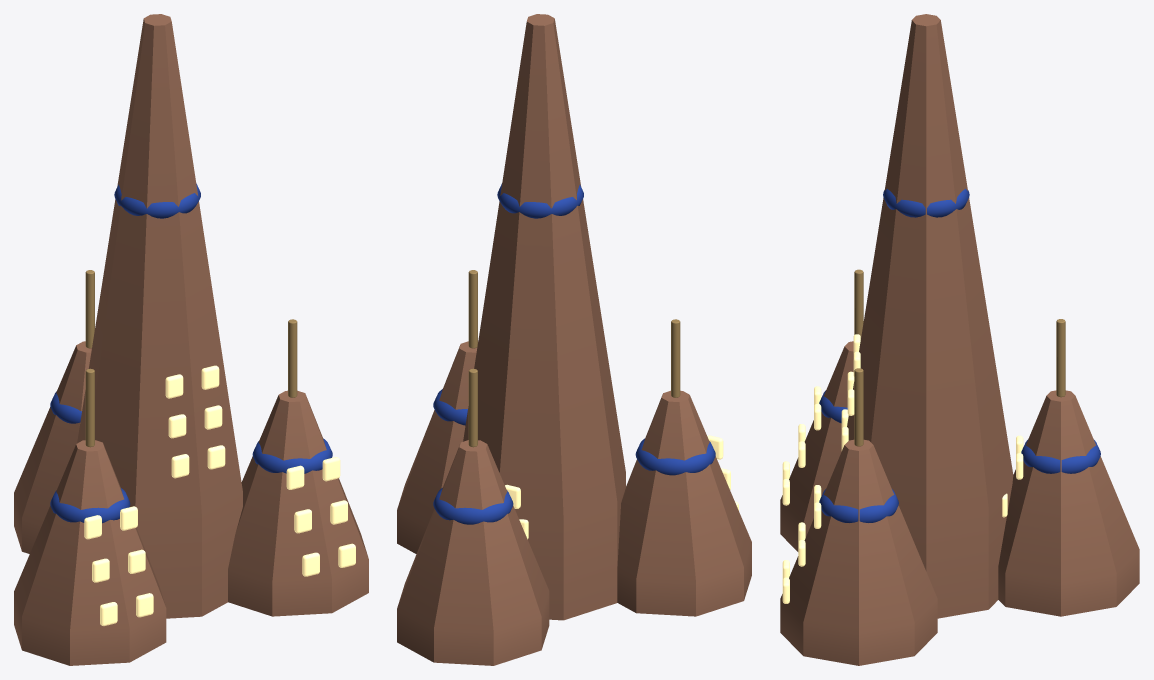
3 views of the same model, side by side, from view 1: azimuth 30°, elevation 25°; view 2: azimuth 150°, elevation 25°; view 3: azimuth 270°, elevation 25° (orthographic).
Visible parts, largest first — view 1: Tapered spire.003, Tapered spire.001, Tapered spire.002, Tapered spire, Spire collar.003, Spire collar.002, Spire collar.001, Aerial stem.002, Aerial stem.001, Aerial stem, Spire collar; view 2: Tapered spire.003, Tapered spire, Tapered spire.001, Tapered spire.002, Spire collar.001, Spire collar, Spire collar.003, Aerial stem.001, Aerial stem.002, Aerial stem, Spire collar.002; view 3: Tapered spire.003, Tapered spire.002, Tapered spire, Tapered spire.001, Spire collar.002, Spire collar, Spire collar.003, Aerial stem, Aerial stem.002, Aerial stem.001.
Boxes of the visible parts, left/top/right/bottom form: Tapered spire.003: left=77, top=14, right=242, bottom=618; Tapered spire.001: left=14, top=440, right=166, bottom=665; Tapered spire.002: left=228, top=390, right=368, bottom=616; Tapered spire: left=14, top=341, right=91, bottom=553; Spire collar.003: left=114, top=183, right=200, bottom=218; Spire collar.002: left=252, top=438, right=332, bottom=473; Spire collar.001: left=50, top=488, right=130, bottom=523; Aerial stem.002: left=288, top=319, right=297, bottom=397; Aerial stem.001: left=85, top=368, right=94, bottom=447; Aerial stem: left=85, top=270, right=94, bottom=348; Spire collar: left=50, top=391, right=81, bottom=423; Tapered spire.003: left=463, top=14, right=625, bottom=620; Tapered spire: left=397, top=440, right=549, bottom=665; Tapered spire.001: left=617, top=390, right=751, bottom=616; Tapered spire.002: left=397, top=341, right=478, bottom=553; Spire collar.001: left=635, top=438, right=715, bottom=475; Spire collar: left=433, top=488, right=513, bottom=524; Spire collar.003: left=497, top=183, right=583, bottom=218; Aerial stem.001: left=671, top=319, right=680, bottom=397; Aerial stem.002: left=468, top=270, right=477, bottom=348; Aerial stem: left=468, top=368, right=477, bottom=447; Spire collar.002: left=433, top=389, right=467, bottom=425; Tapered spire.003: left=847, top=14, right=1013, bottom=618; Tapered spire.002: left=780, top=439, right=937, bottom=665; Tapered spire: left=998, top=390, right=1139, bottom=616; Tapered spire.001: left=780, top=341, right=853, bottom=551; Spire collar.002: left=819, top=489, right=898, bottom=522; Spire collar: left=1021, top=440, right=1100, bottom=473; Spire collar.003: left=883, top=188, right=969, bottom=217; Aerial stem: left=1056, top=319, right=1065, bottom=397; Aerial stem.002: left=854, top=368, right=863, bottom=446; Aerial stem.001: left=854, top=269, right=863, bottom=339.
Bounding box in the file's own units: 1.89 × 3 × 1.73.
